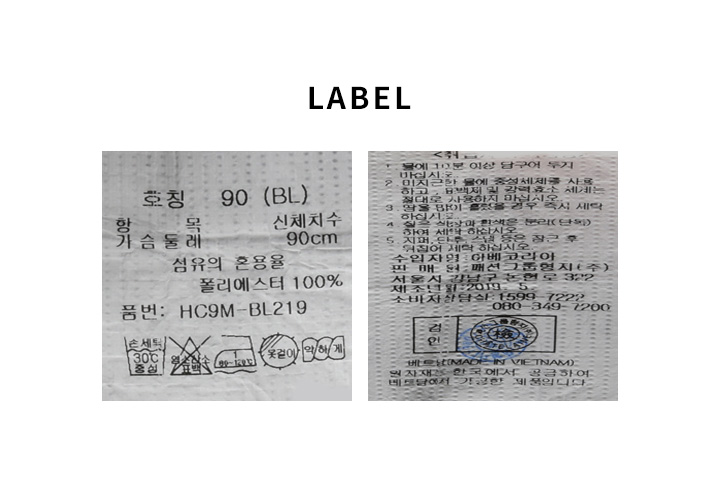KR_gentle_wring: (299, 333, 349, 366)
KR_hand_wash_30_neutral: (121, 332, 169, 380)
KR_hang_dry_in_shade: (257, 329, 298, 373)
KR_iron_low_temp_with_cloth: (213, 330, 258, 378)
KR_no_bleach: (167, 332, 214, 380)
